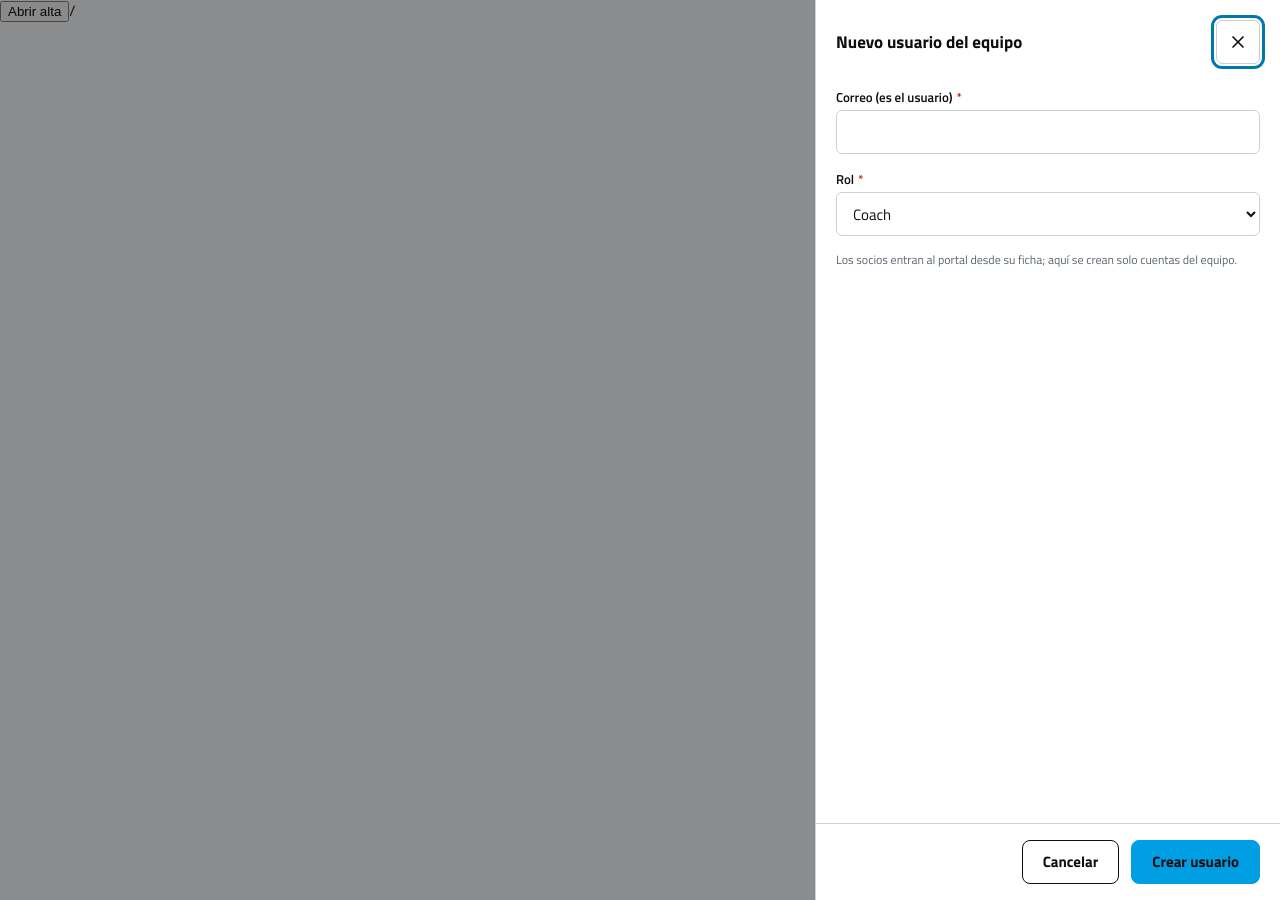
Scenario: NewUserPanel · formulario › envía el correo recortado y el rol elegido
Select "Admin" in the dropdown labelled "Rol*". click: point(1048, 214)
box: [836,192,1260,236]
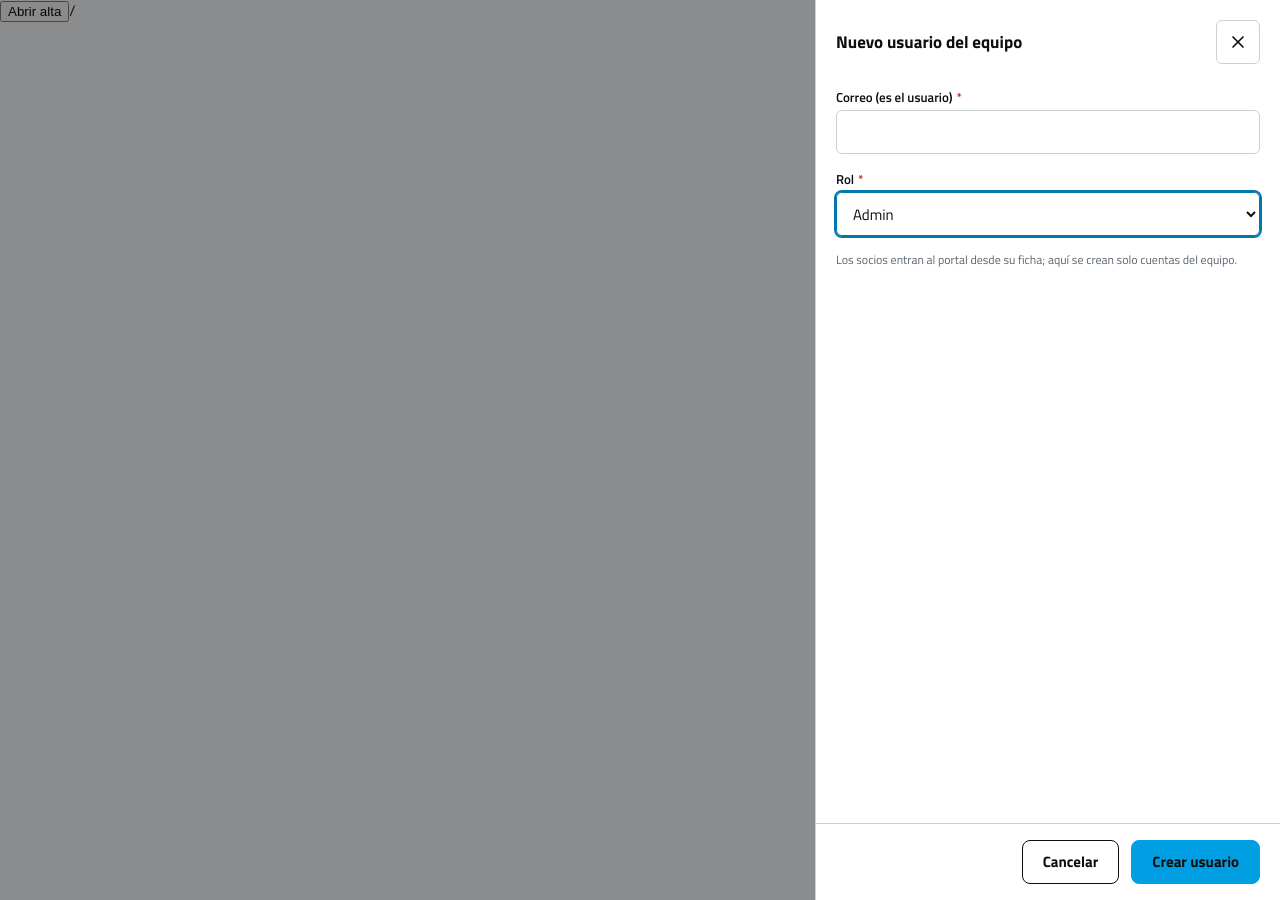
Type "  nueva@apex.test " into the field labelled "Correo (es el usuario)*". click: point(1048, 132)
box: [836,110,1260,154]
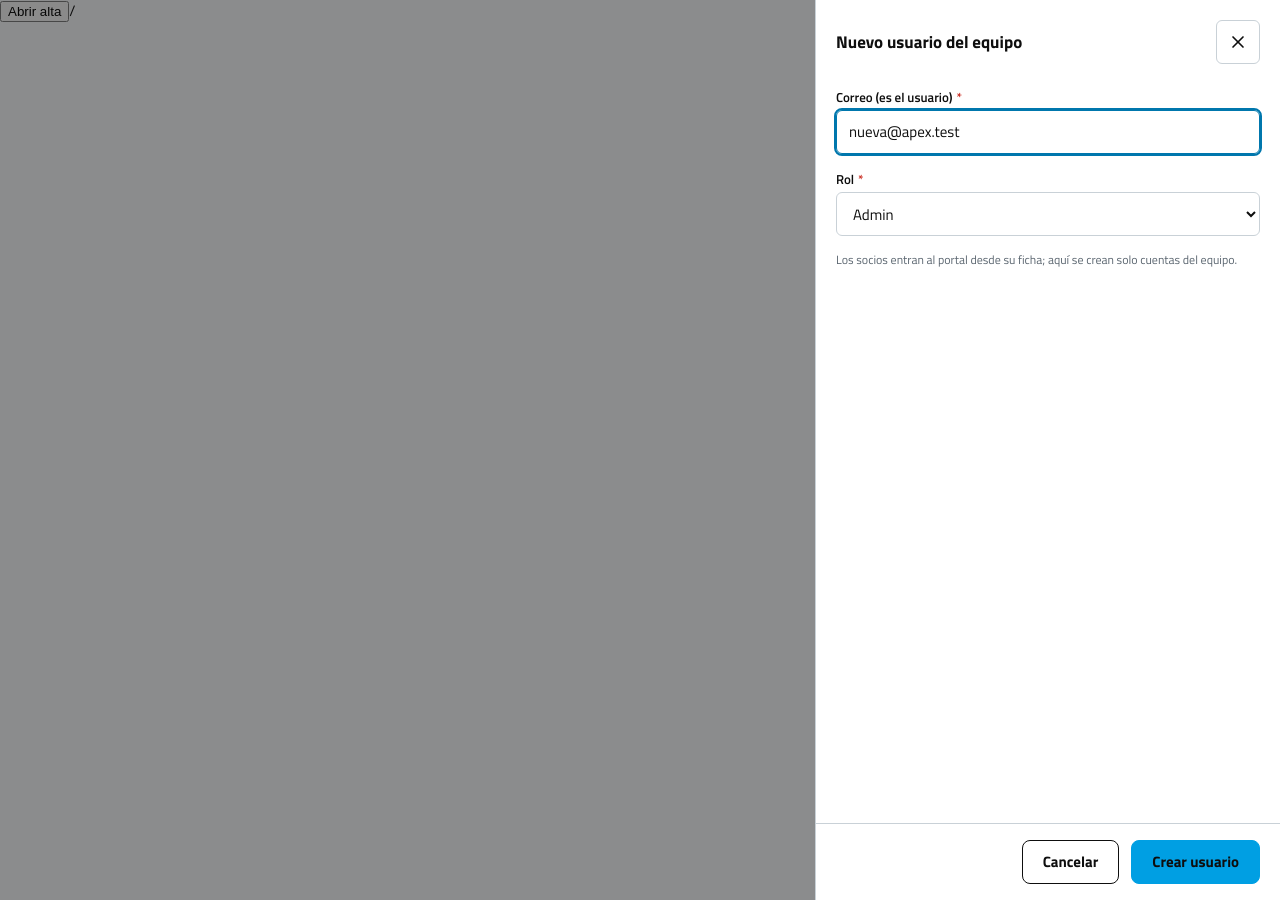
Click the button "Crear usuario". click: point(1196, 862)
box: [1131,840,1260,884]
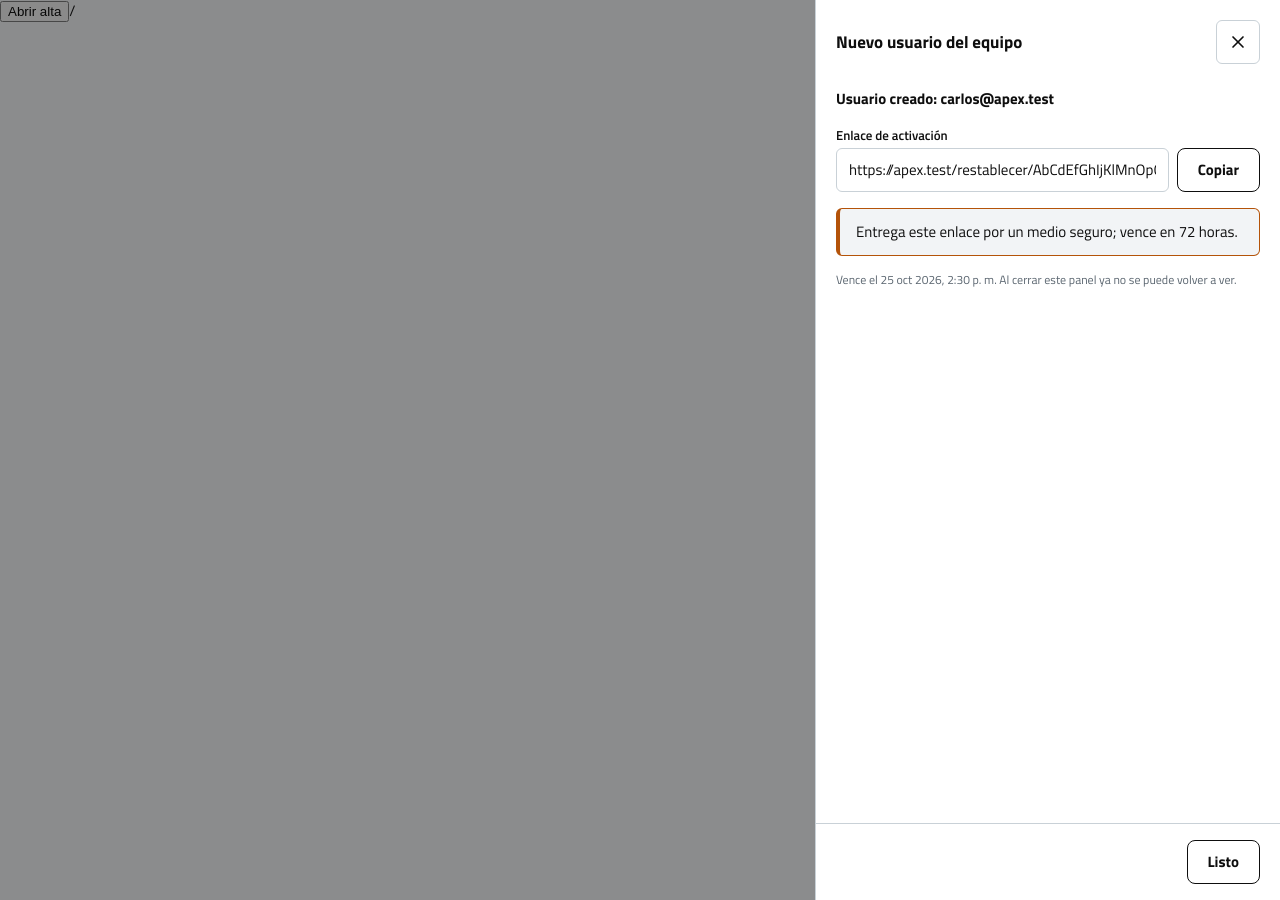
Expected: the field labelled "Enlace de activación" is shown, [836,148,1169,192]
